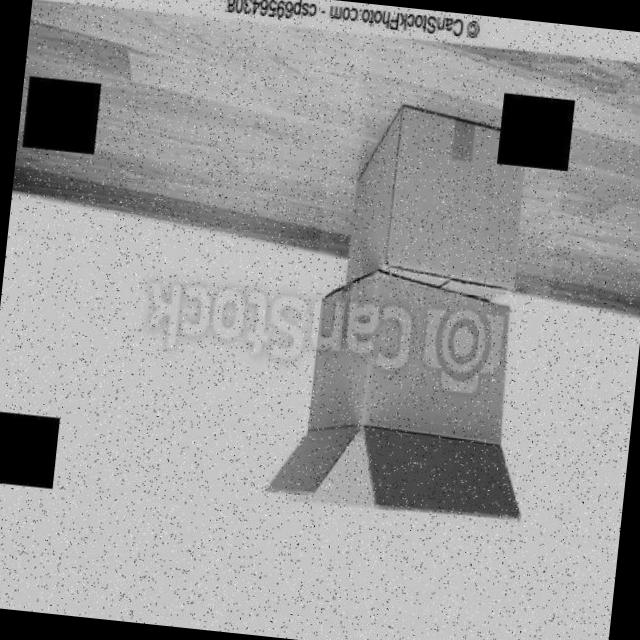box: (246, 268, 544, 543), (316, 84, 570, 298)
